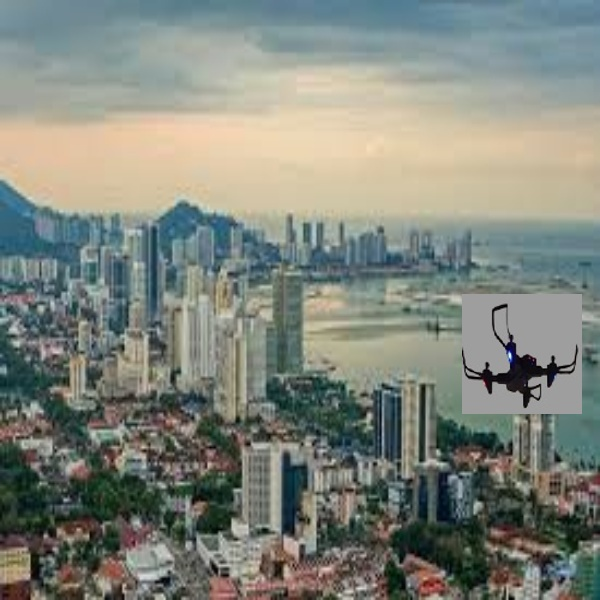drone: (463, 294, 582, 414)
